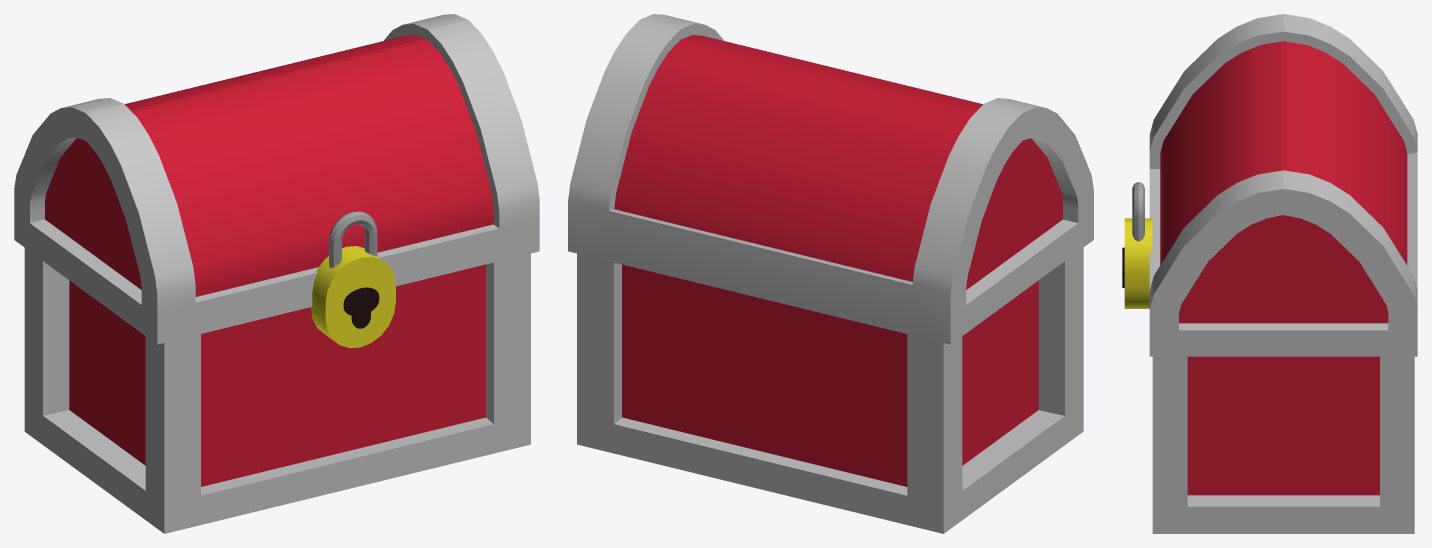
File: treasure.fbx
3 renders of one model, left to right at view 1: azimuth 30°, elevation 25°; view 2: azimuth 150°, elevation 25°; view 3: azimuth 270°, elevation 25°, orthographic. The views are drawn at different scales.
Parts seen in each view (by area): view 1: top, bottom, lock; view 2: top, bottom; view 3: top, bottom, lock.
Part boxes in pixels (bbox=[...]): top: bbox=[14, 14, 539, 344]; bottom: bbox=[24, 248, 530, 533]; lock: bbox=[310, 211, 395, 348]; top: bbox=[568, 14, 1093, 344]; bottom: bbox=[577, 247, 1083, 533]; top: bbox=[1149, 14, 1417, 356]; bottom: bbox=[1152, 356, 1414, 533]; lock: bbox=[1122, 182, 1152, 308].
Bounding box in the file's own units: 40 × 37.15 × 28.57.
